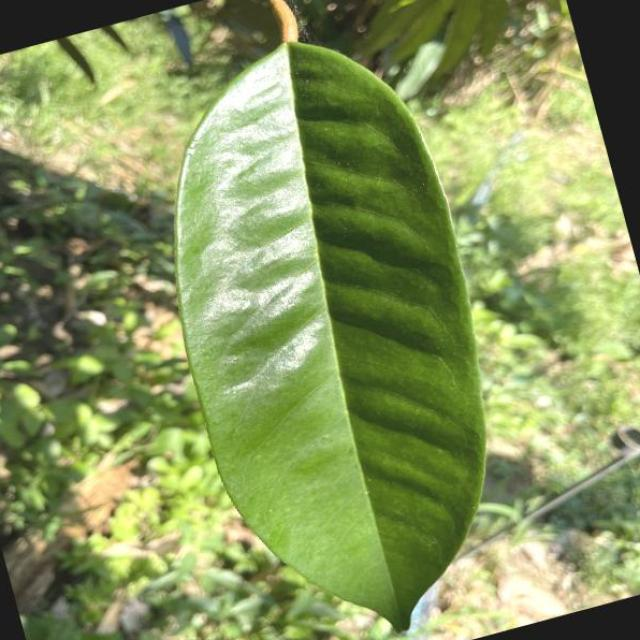No Disease: (90, 3, 568, 640)
